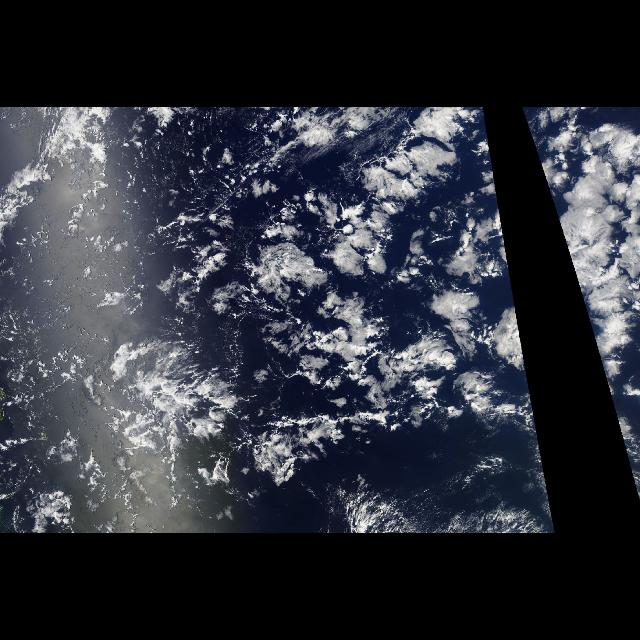Fish: (106, 342, 296, 480)
Flower: (188, 108, 536, 426), (522, 107, 640, 419)
